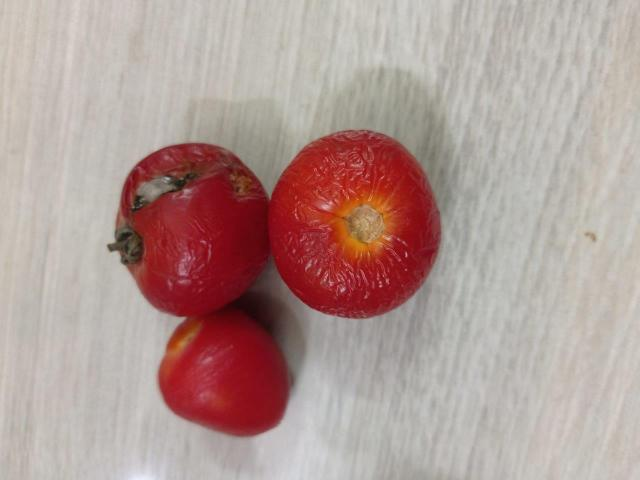defect: (266, 124, 443, 321), (110, 142, 270, 314)
